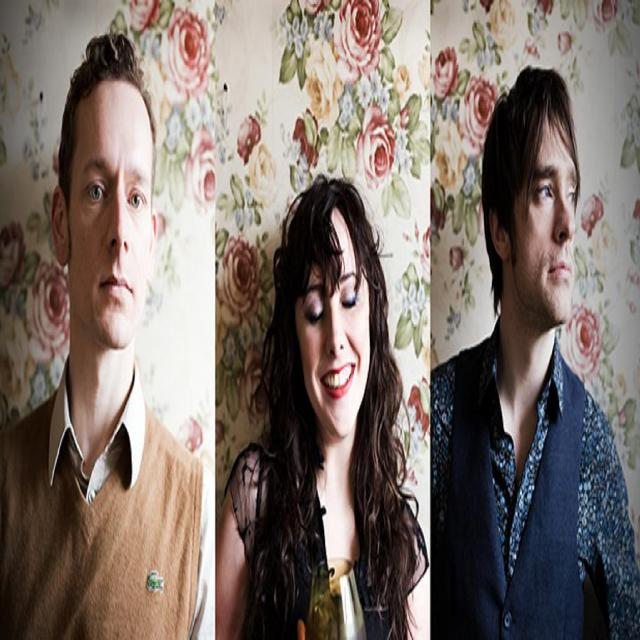nomask: (78, 116, 152, 338), (304, 243, 368, 438), (511, 127, 575, 319)
